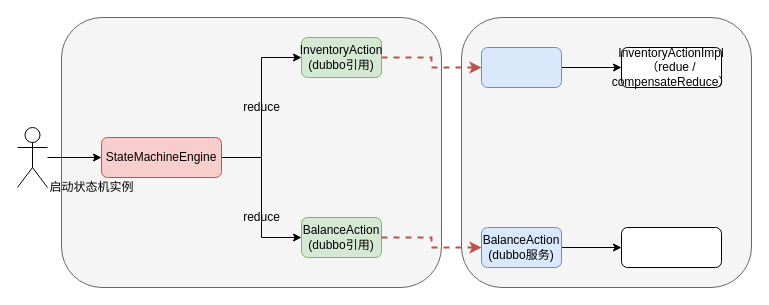
This 769x305 diagram has some shape labels left out. The shapes that lost their labels are listed below. From the top down, each one's centre as x and y in pixels, then its label:
[521,67]: InventoryAction (dubbo服务)
[671,247]: BalanceActionImpl （redue / compensateReduce）
